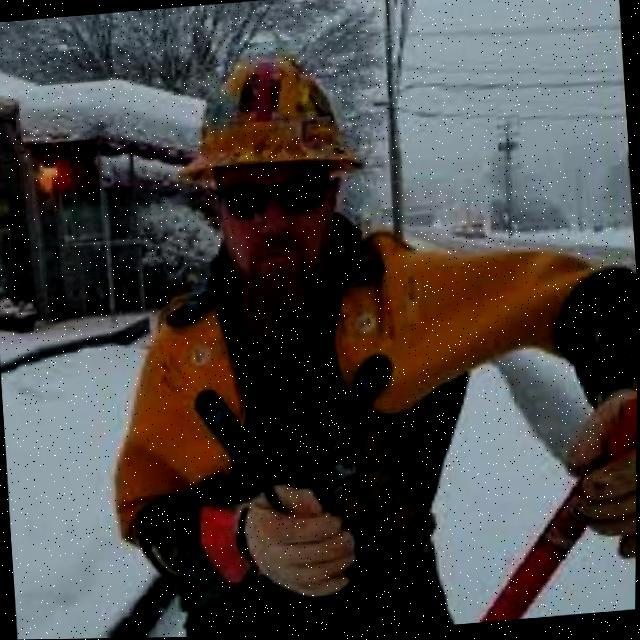goggles_on: (215, 162, 343, 224)
